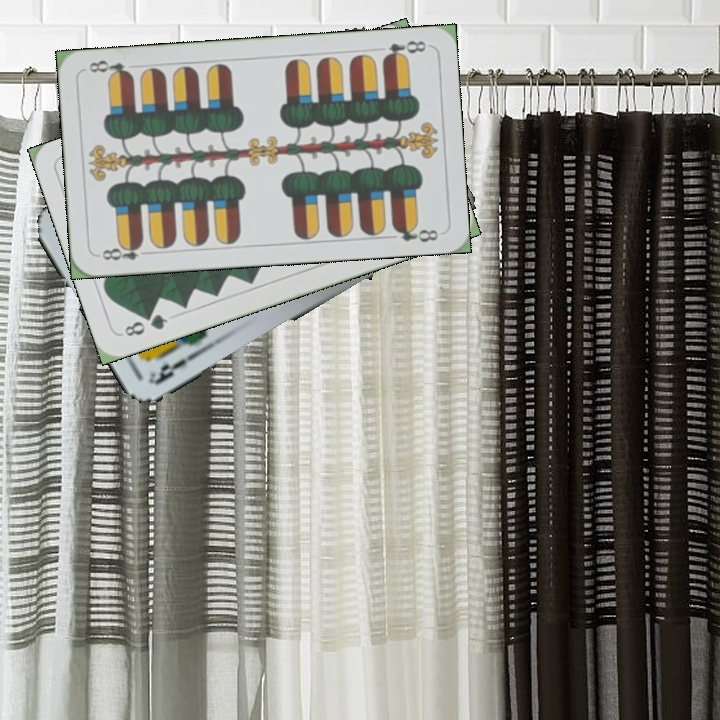E8: (378, 36, 429, 63), (98, 239, 154, 263)
EK: (145, 348, 200, 388)
G8: (120, 310, 171, 339)
